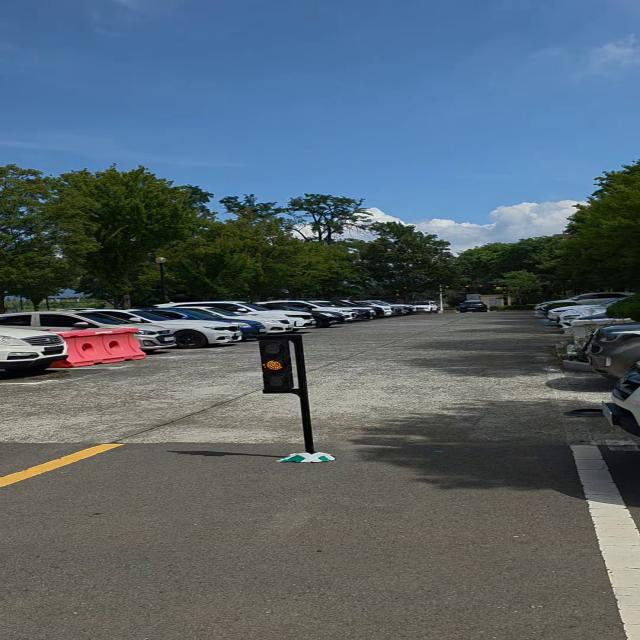yellow: (253, 331, 300, 397)
